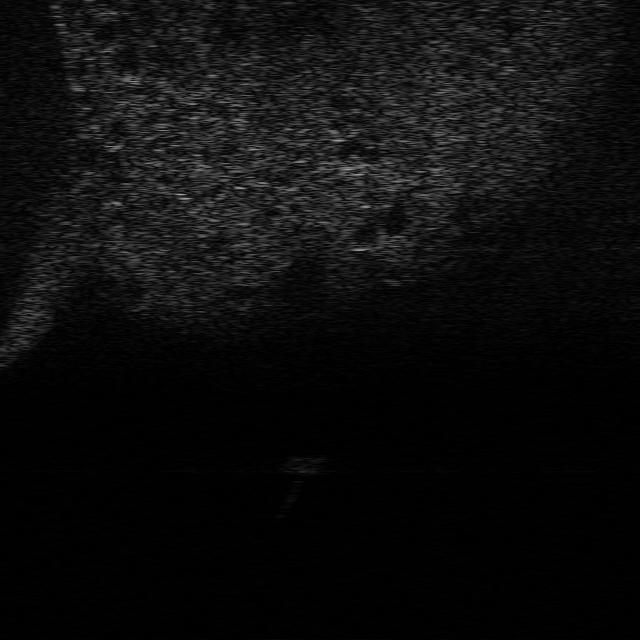cube: (281, 454, 330, 476)
